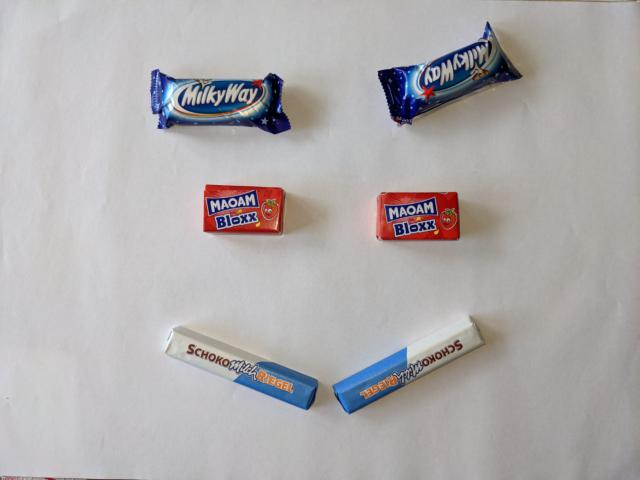MAOAM: (371, 189, 463, 245), (199, 180, 288, 237)
MilkyWay: (375, 19, 525, 130), (147, 66, 293, 136)
Schokoriegel: (329, 311, 489, 417), (158, 322, 323, 414)
